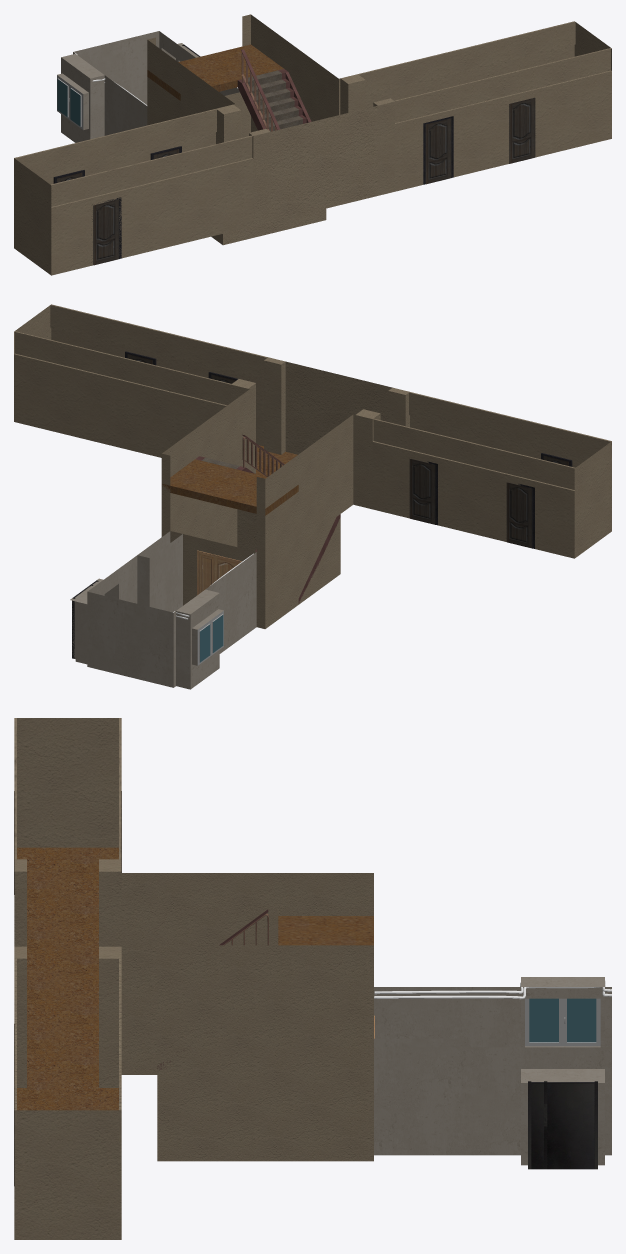
The model's file is near_to_exit.glb.
3 renders of one model, top to bottom at view 1: azimuth 30°, elevation 25°; view 2: azimuth 150°, elevation 25°; view 3: azimuth 270°, elevation 25°, orthographic. The views are drawn at different scales.
Visible parts, largest first — view 1: Cube.014, Plane, walls, Cube.016, Cube.035, Cube.017, Cube.019, Cube.033, Cube.021, Cube.025, Plane.002, Cube.020 (+3 smaller); view 2: Cube.014, walls, Plane, Cube.035, Cube.005, Cube.019, Cube.028, Cube.031, Plane.002, Cube.017, Cube.020, Plane.004 (+1 smaller); view 3: walls, Cube.014, Plane, Cube.023, Cube, Plane.002, Cube.035, Cube.020, Cube.018, Cube.019, Cube.003, Cube.017 (+2 smaller).
Part boxes in pixels (x1,y1,x2,y2): Cube.014: [14, 21, 611, 275]; Plane: [57, 31, 242, 142]; walls: [147, 14, 326, 244]; Cube.016: [237, 69, 311, 131]; Cube.035: [147, 44, 283, 100]; Cube.017: [249, 129, 270, 226]; Cube.019: [373, 98, 394, 195]; Cube.033: [93, 199, 119, 265]; Cube.021: [425, 118, 451, 184]; Cube.025: [509, 97, 535, 163]; Plane.002: [57, 75, 83, 129]; Cube.020: [340, 74, 365, 114]; Cube.014: [14, 304, 611, 558]; walls: [161, 398, 340, 628]; Plane: [70, 531, 256, 689]; Cube.035: [162, 459, 298, 515]; Cube.005: [137, 534, 182, 612]; Cube.019: [264, 357, 285, 454]; Cube.028: [506, 482, 532, 548]; Cube.031: [409, 458, 435, 524]; Plane.002: [197, 611, 223, 665]; Cube.017: [388, 387, 409, 427]; Cube.020: [231, 379, 255, 473]; Plane.004: [242, 437, 283, 476]; walls: [157, 873, 373, 1161]; Cube.014: [14, 718, 157, 1239]; Plane: [374, 977, 611, 1165]; Cube.023: [17, 847, 118, 1110]; Cube: [547, 1082, 594, 1169]; Plane.002: [525, 998, 600, 1046]; Cube.035: [278, 916, 373, 945]; Cube.020: [99, 946, 121, 1087]; Cube.018: [99, 859, 121, 946]; Cube.019: [14, 946, 26, 1087]; Cube.003: [531, 1082, 543, 1169]; Cube.017: [14, 859, 26, 946].
Size of the model in its own units: 19.5 by 5.09 by 12.56.
11 materials, 11 textured.
